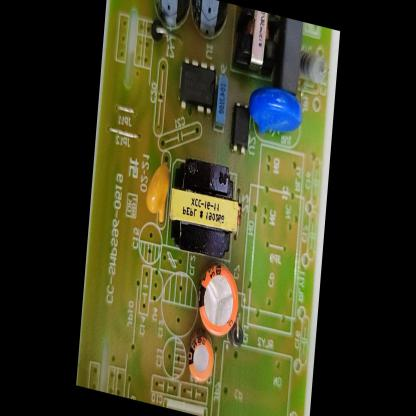Cap1: (192, 255, 244, 344)
Cap2: (183, 330, 219, 391)
Cap3: (187, 0, 236, 49)
Cap4: (145, 0, 192, 40)
MOSFET: (176, 50, 218, 118)
Mov: (244, 77, 307, 147)
Resistor: (297, 45, 330, 89)
Transformer: (164, 148, 244, 262), (232, 5, 280, 72)
